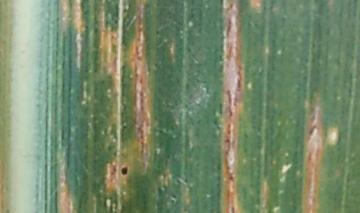tarspot: (119, 165, 130, 176)
